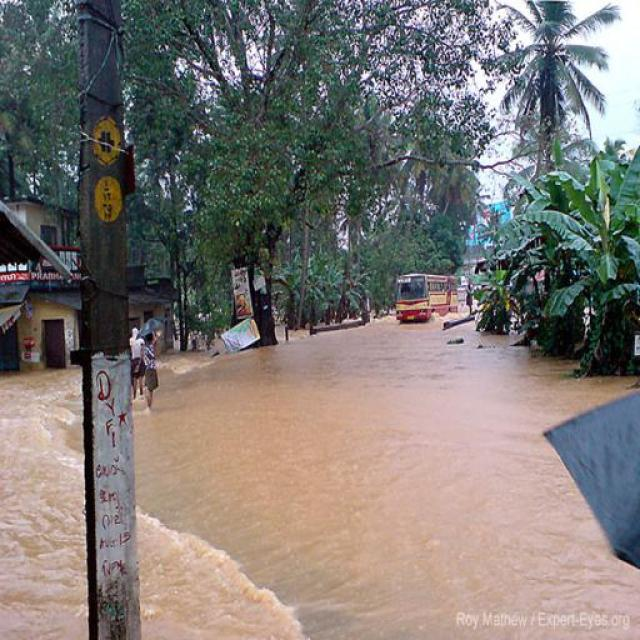puddle: (142, 407, 638, 640), (218, 355, 567, 614), (7, 379, 91, 640), (362, 335, 507, 377)
